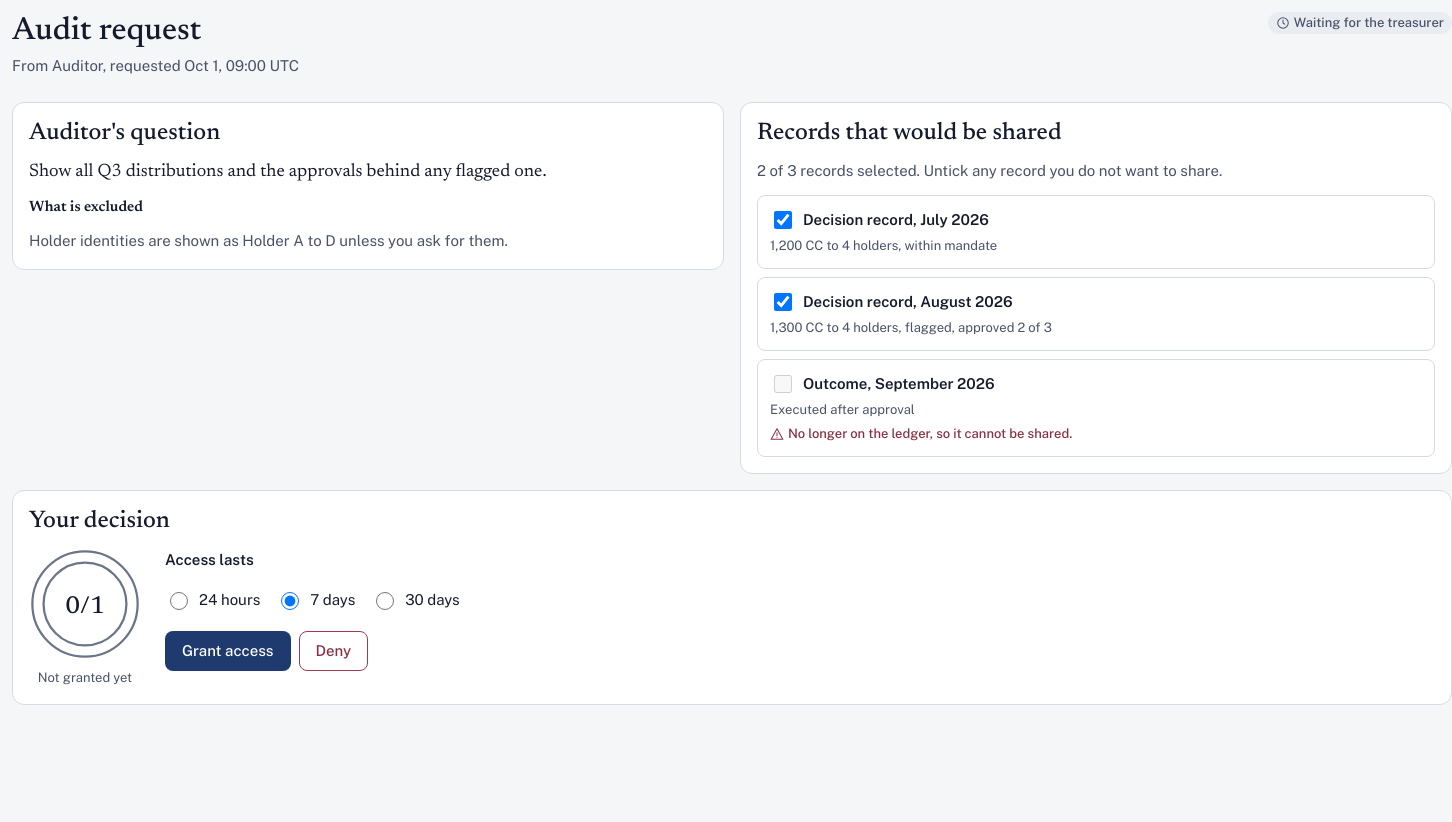
Test: treasurer review page › shows the ledger message in place when granting fails
Expected: the element "Auditor's question" is shown, [12,102,724,270]
Click the button "Grant access" at (228, 651), box [165,631,290,671]
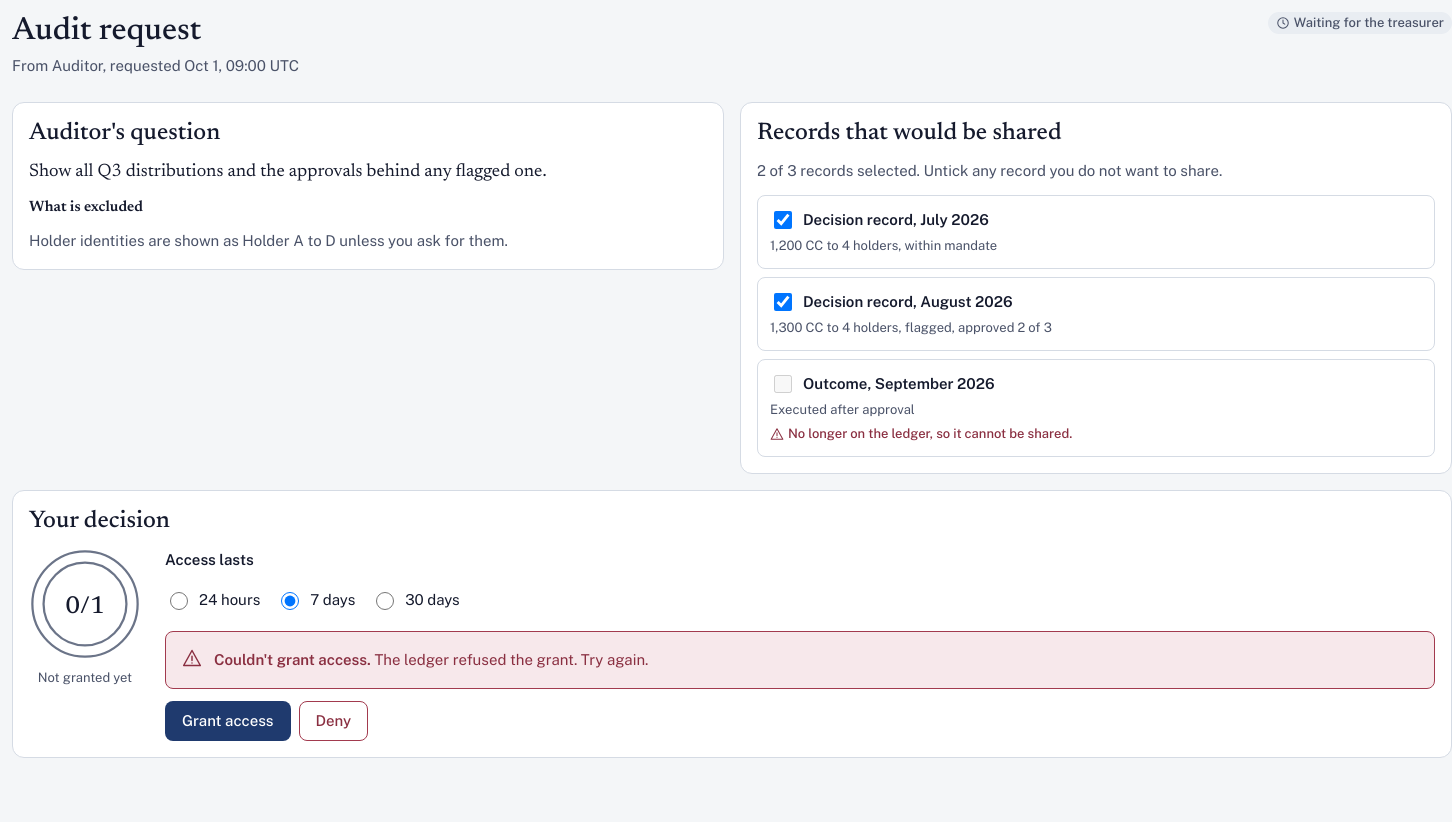
Expected: the button "Grant access" is enabled, [165,700,290,740]
Result: the text "The ledger refused the grant. Try again." is shown at [371,651,648,668]
